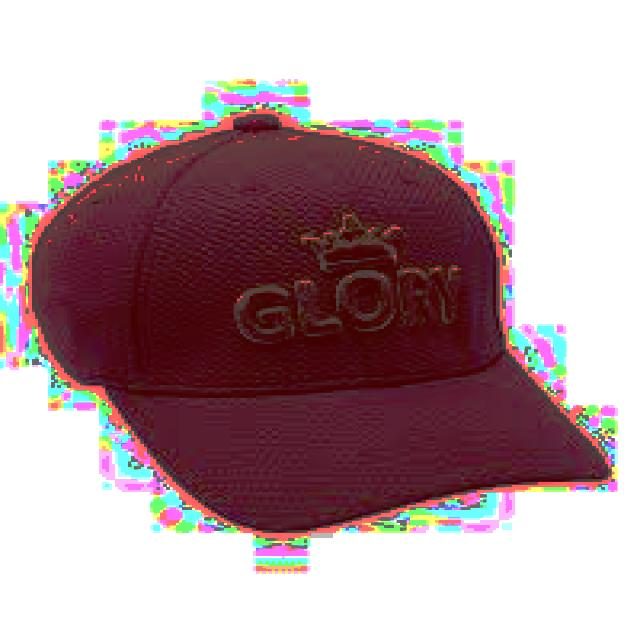TOPI: (22, 110, 608, 533)
